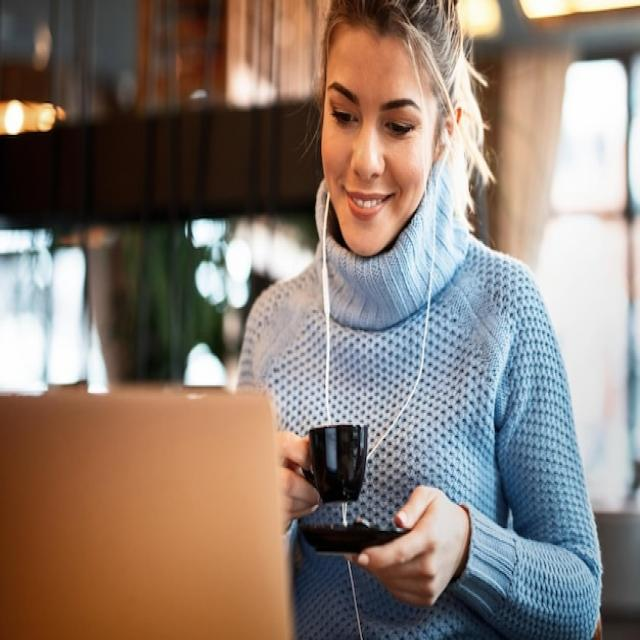Earphone: (320, 123, 450, 640)
